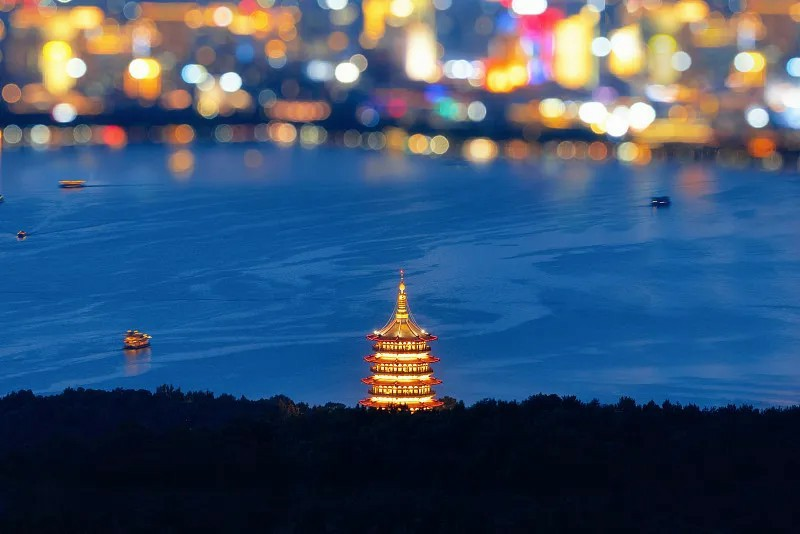Leifeng: (360, 266, 443, 416)
